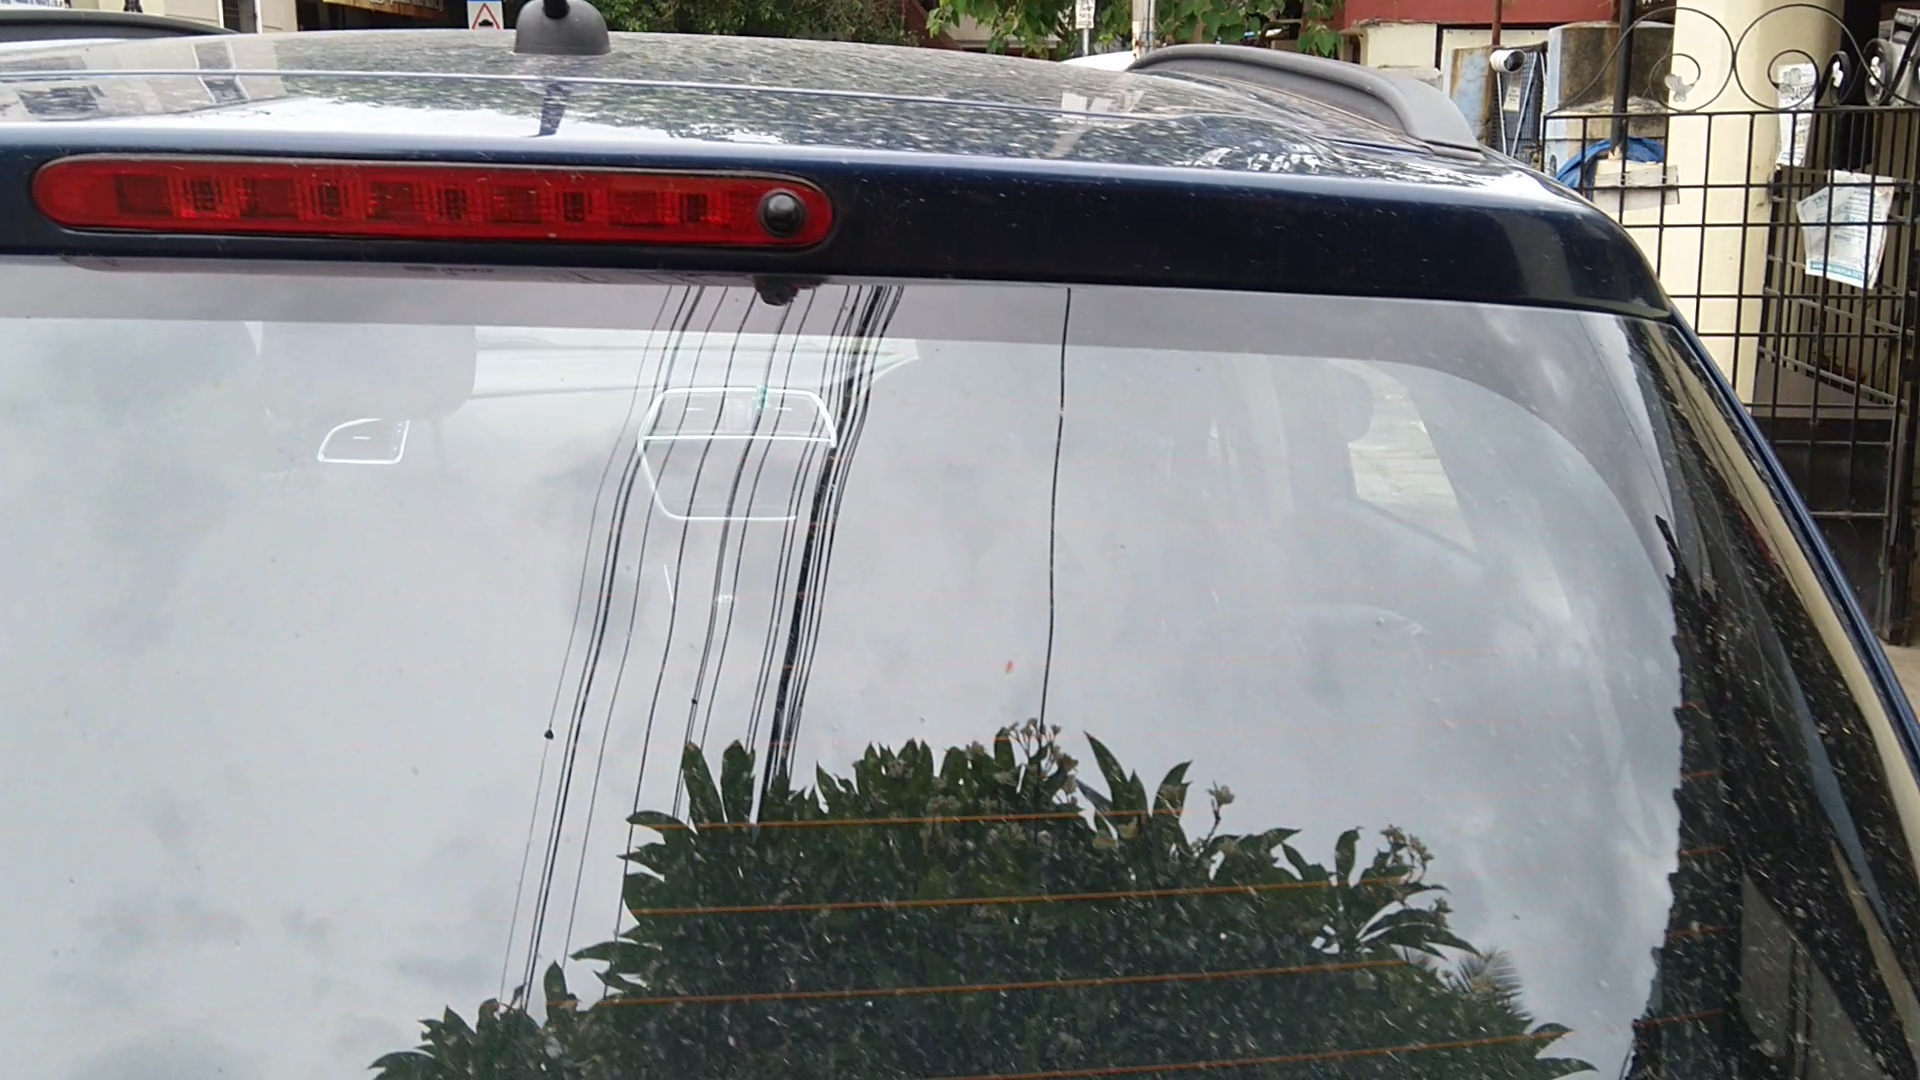rear_camera: (753, 175, 823, 249)
